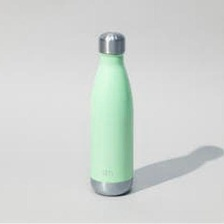bottle: (87, 26, 137, 199)
